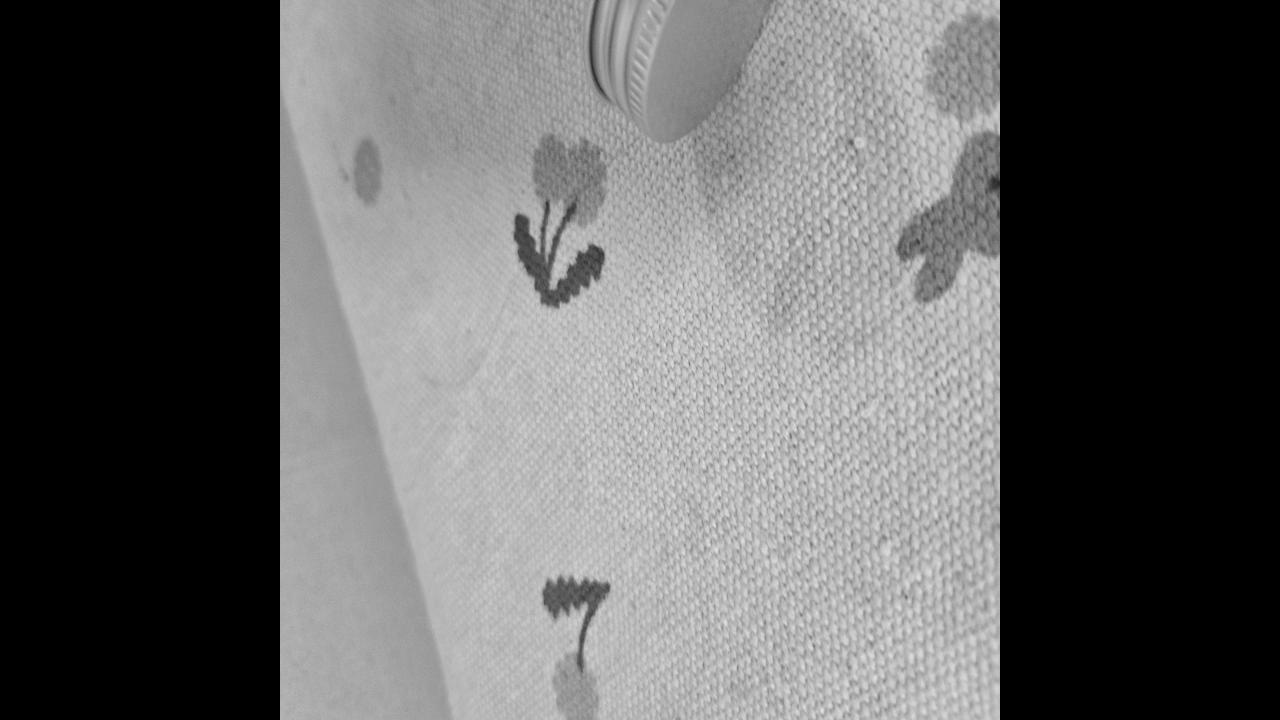bottle_cap: (577, 0, 786, 151)
